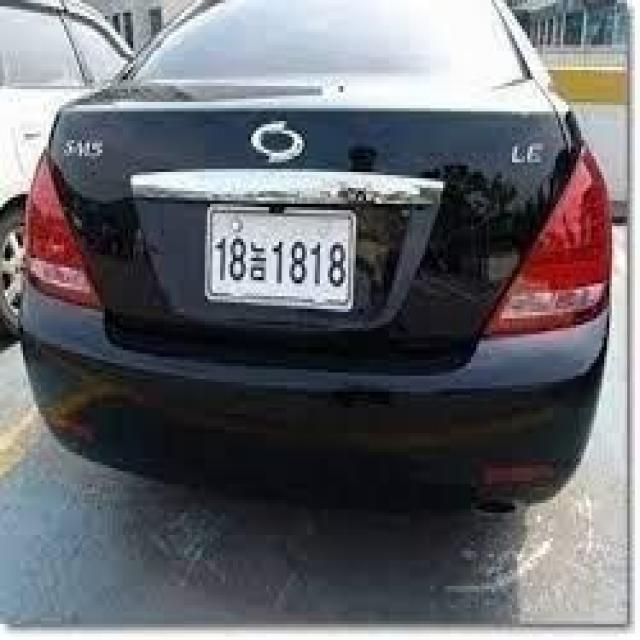car: (21, 3, 625, 523)
illegal_plate: (206, 203, 357, 320)
